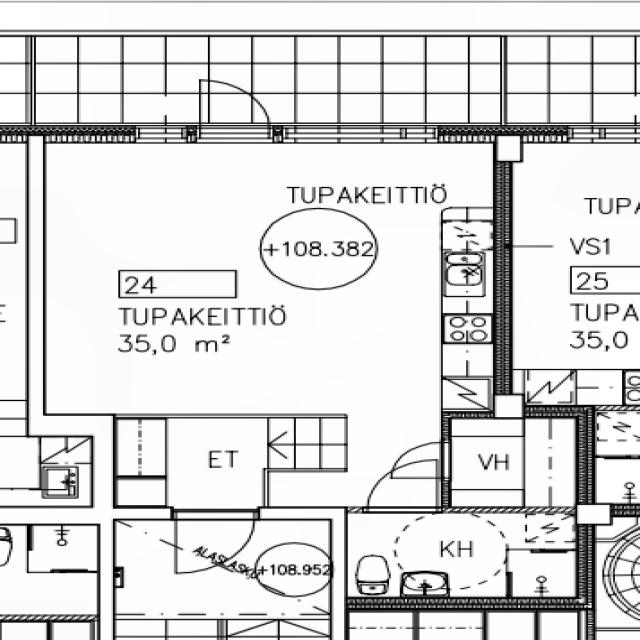Doors-dC8s: (197, 130, 266, 144), (176, 513, 257, 520), (439, 446, 457, 475), (373, 510, 444, 515)
Window: (290, 130, 431, 143), (574, 128, 638, 144), (149, 122, 180, 142)
